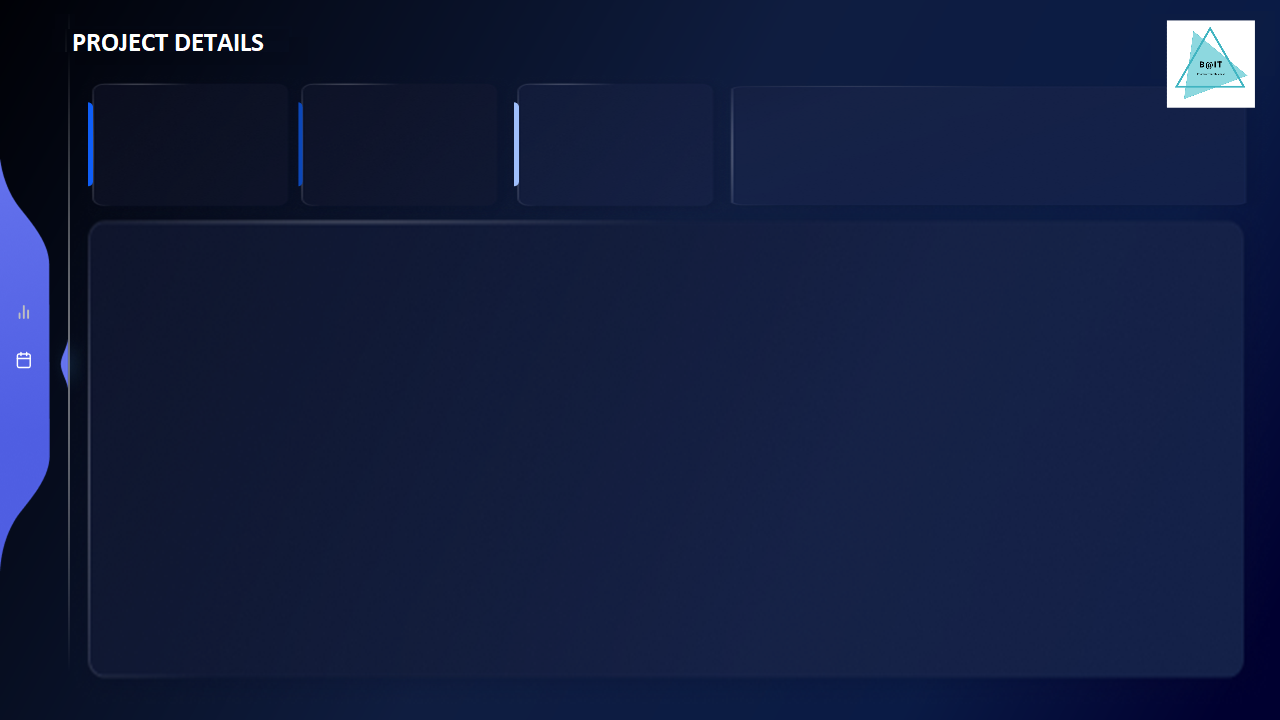

This screenshot's page, from the dashboard's own definition file:
{"tool":"powerbi","page":{"name":"Project details","canvas":[1280,720],"ordinal":1},"visuals":[{"type":"actionButton","box":[23.3,18.3,41.7,40],"z":0},{"type":"multiRowCard","fields":{"Values":["dProjects.Project"]},"box":[285,20,243.3,90],"z":1000},{"type":"multiRowCard","fields":{"Values":["0- Measures.Actual Cost"]},"box":[100,106.4,184.3,58.1],"z":2000},{"type":"clusteredBarChart","fields":{"Y":["0- Measures.Actual Cost","0- Measures.Comparison Cost"]},"box":[105.7,107.2,185.7,110.6],"z":3000},{"type":"multiRowCard","fields":{"Values":["0- Measures.% Comparison Cost"]},"box":[234.6,92.1,66.6,43.9],"z":4000},{"type":"multiRowCard","fields":{"Values":["0- Measures.Actual Duration"]},"box":[309.8,107.2,184.8,58.8],"z":5000},{"type":"clusteredBarChart","fields":{"Y":["0- Measures.Actual Duration","0- Measures.Comparison Duration"]},"box":[315.3,107.6,185.8,109.7],"z":6000},{"type":"multiRowCard","fields":{"Values":["0- Measures.% Comparison Duration"]},"box":[444.8,92.1,66.6,43.9],"z":7000},{"type":"multiRowCard","fields":{"Values":["0- Measures.Actulal Workload"]},"box":[531.4,107.1,134.3,81.4],"z":8000},{"type":"clusteredBarChart","fields":{"Y":["0- Measures.Actulal Workload","0- Measures.Comparison Workload"]},"box":[547.1,105.7,185.7,111.4],"z":9000},{"type":"multiRowCard","fields":{"Values":["0- Measures.% Comparison Workload"]},"box":[666.1,92.1,66.6,43.9],"z":10000},{"type":"multiRowCard","fields":{"Values":["fTasks.Start","fTasks.Finish","dProjects.Status","fTasks.Task"]},"box":[732.9,88.6,265.7,150],"z":11000},{"type":"simpleImageEBC4593F96F1425FB3D84C5BF02B5075","fields":{"imageURL":["dManagers.Image URL"]},"box":[962.9,80,148.6,125.7],"z":12000},{"type":"multiRowCard","fields":{"Values":["dManagers.Manager","dProjects.Area"]},"box":[1121.4,105.7,125.7,100],"z":13000},{"type":"tableEx","fields":{"Values":["fTasks.TaskIntUID","fTasks.Task","Min(fTasks.Start)","Max(fTasks.Finish)","dManagers.Manager","0- Measures.Actual Cost","0- Measures.% Comparison Cost","0- Measures.Actual Duration","0- Measures.% Comparison Duration","0- Measures.% Comparison Workload"]},"box":[92.9,281.4,1108.6,382.9],"z":18000},{"type":"actionButton","title":"Gant Off (Portf)","box":[98.6,239,119.4,40.6],"z":19000},{"type":"actionButton","title":"Table On (Portf)","box":[222,236.5,120,40],"z":20000}]}

Visuals, with their boxes on the page's 1280x720 design canvas (x1, y1, x2, y2). These are canvas units, not pixel positions in the 1280x720 screenshot, which may show the page scaled, cropped or inside an application window:
actionButton: locate(23, 18, 65, 58)
multiRowCard - dProjects.Project: locate(285, 20, 528, 110)
multiRowCard - 0- Measures.Actual Cost: locate(100, 106, 284, 164)
clusteredBarChart - 0- Measures.Actual Cost x 0- Measures.Comparison Cost: locate(106, 107, 291, 218)
multiRowCard - 0- Measures.% Comparison Cost: locate(235, 92, 301, 136)
multiRowCard - 0- Measures.Actual Duration: locate(310, 107, 495, 166)
clusteredBarChart - 0- Measures.Actual Duration x 0- Measures.Comparison Duration: locate(315, 108, 501, 217)
multiRowCard - 0- Measures.% Comparison Duration: locate(445, 92, 511, 136)
multiRowCard - 0- Measures.Actulal Workload: locate(531, 107, 666, 188)
clusteredBarChart - 0- Measures.Actulal Workload x 0- Measures.Comparison Workload: locate(547, 106, 733, 217)
multiRowCard - 0- Measures.% Comparison Workload: locate(666, 92, 733, 136)
multiRowCard - fTasks.Start x fTasks.Finish: locate(733, 89, 999, 239)
simpleImageEBC4593F96F1425FB3D84C5BF02B5075 - dManagers.Image URL: locate(963, 80, 1112, 206)
multiRowCard - dManagers.Manager x dProjects.Area: locate(1121, 106, 1247, 206)
tableEx - fTasks.TaskIntUID x fTasks.Task: locate(93, 281, 1202, 664)
"Gant Off (Portf)" actionButton: locate(99, 239, 218, 280)
"Table On (Portf)" actionButton: locate(222, 236, 342, 276)
